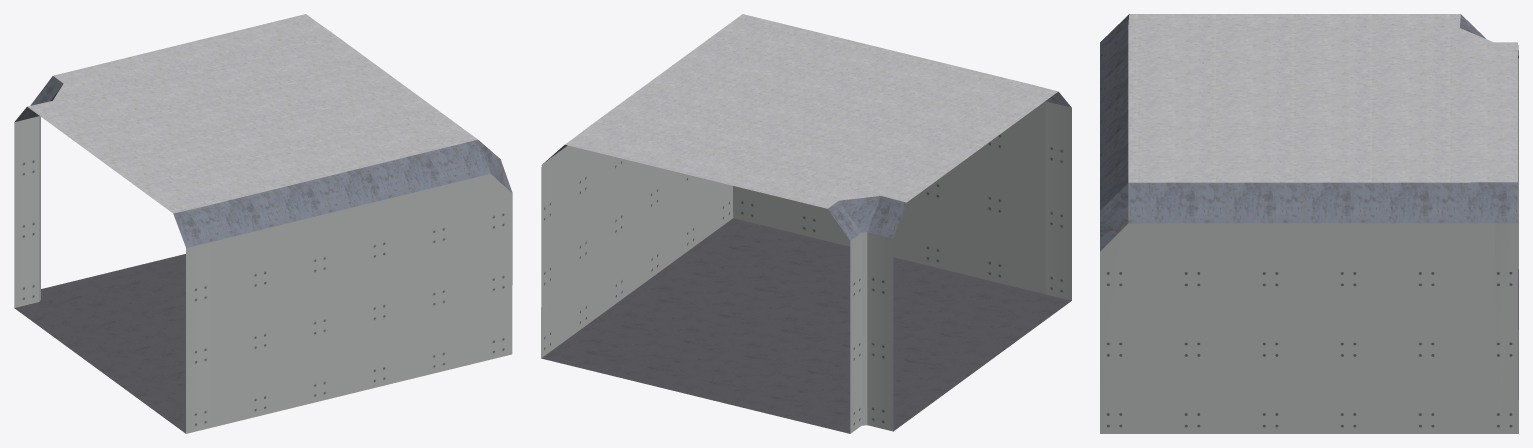
File: starship_left_corner.FBX
3 renders of one model, left to right at view 1: azimuth 30°, elevation 25°; view 2: azimuth 150°, elevation 25°; view 3: azimuth 270°, elevation 25°, orthographic. The views are drawn at different scales.
Parts seen in each view (by area): view 1: LeftCorner; view 2: LeftCorner; view 3: LeftCorner.
Boxes of the visible parts, box(x1,y1,x2,y2) form: LeftCorner: box(14, 14, 512, 433); LeftCorner: box(541, 14, 1071, 433); LeftCorner: box(1100, 14, 1518, 433).
Bounding box in the file's own units: 2.67 × 1.65 × 2.61.
